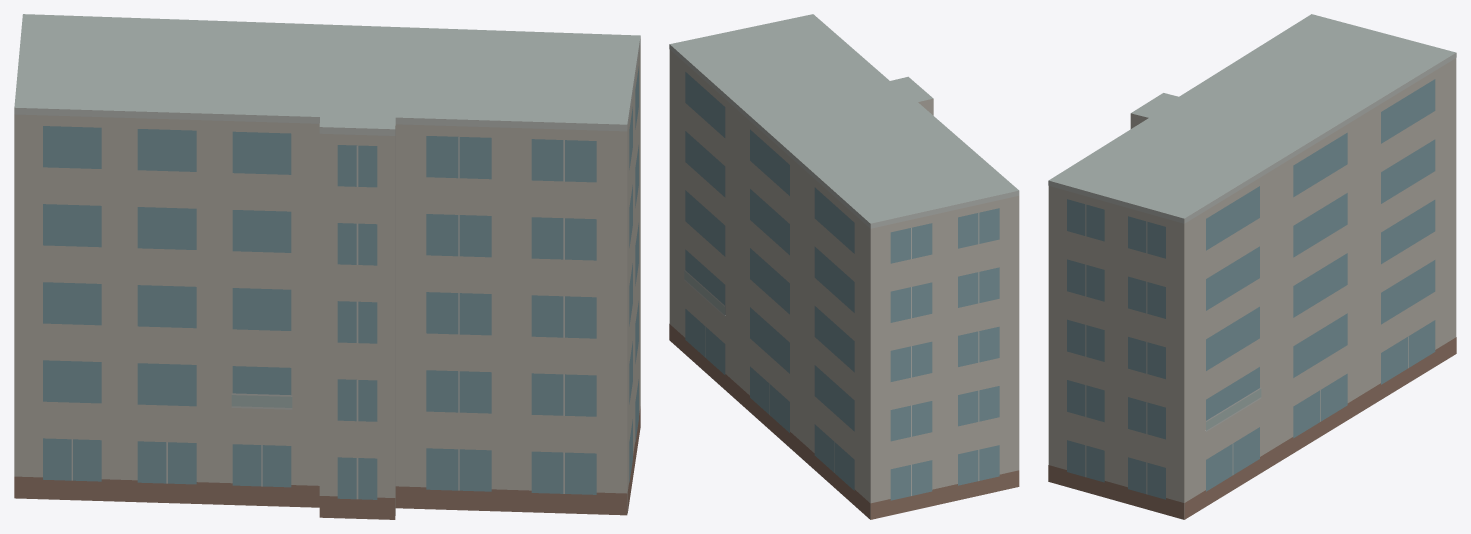
Rendered from survey-upis-32905050.glb.
3 renders of one model, left to right at view 1: azimuth 30°, elevation 25°; view 2: azimuth 150°, elevation 25°; view 3: azimuth 270°, elevation 25°, orthographic. The views are drawn at different scales.
Parts seen in each view (by area): view 1: survey-upis-32905050.tmp; view 2: survey-upis-32905050.tmp; view 3: survey-upis-32905050.tmp.
Part boxes in pixels (x1,y1,x2,y2): survey-upis-32905050.tmp: (14, 14, 640, 519); survey-upis-32905050.tmp: (669, 14, 1019, 519); survey-upis-32905050.tmp: (1048, 14, 1456, 519).
Size of the model in its own units: 20.7 by 14.2 by 17.44.
